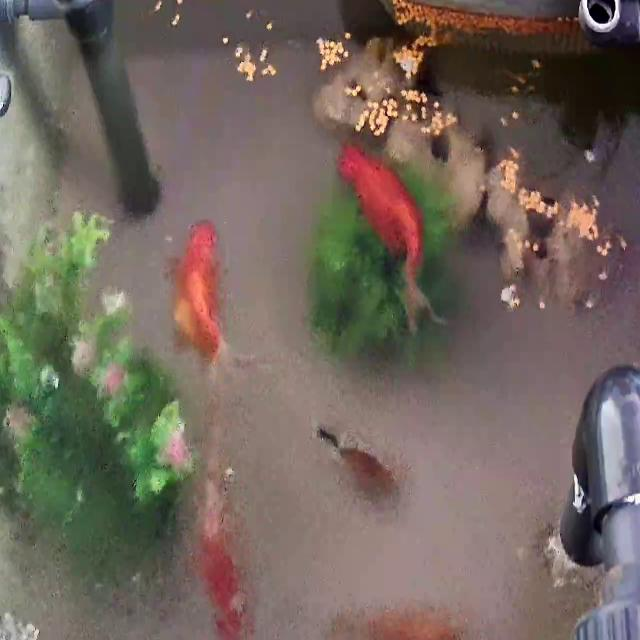fish: (341, 137, 442, 324), (198, 472, 248, 640), (321, 420, 410, 504), (173, 220, 224, 366), (333, 604, 450, 640)
